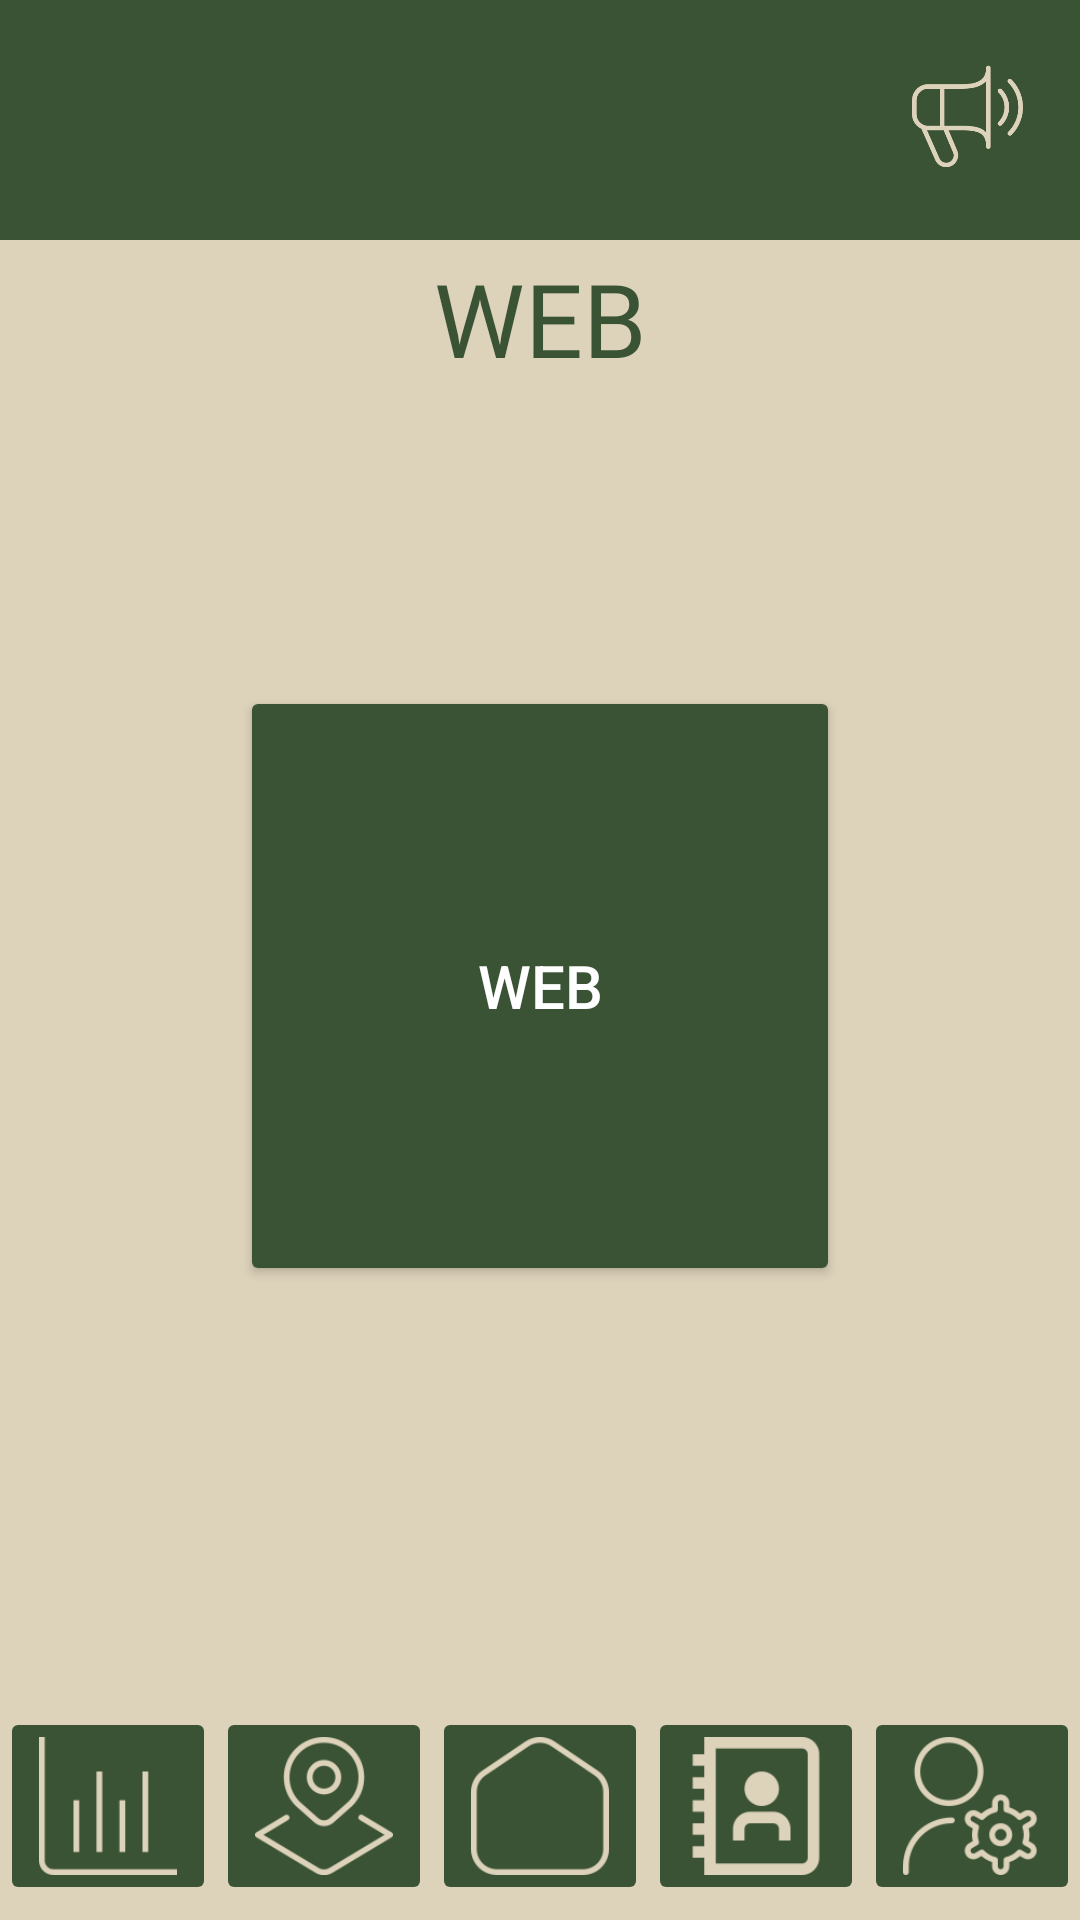

Where icons sit on this 1080 × 1920 app screen, as (x1, y1, x2, y2):
Boton para ir a la pagina de anuncios: (912, 65, 1023, 167)
Botón de inicio: (444, 1725, 636, 1887)
Botón para ir a la página de agenda: (660, 1725, 852, 1887)
Botón para ir a la página de ajustes de usuario: (876, 1725, 1068, 1887)
Botón para ir a la página de gráficas: (12, 1725, 204, 1887)
Botón para ir a la página de mapa: (228, 1725, 420, 1887)
